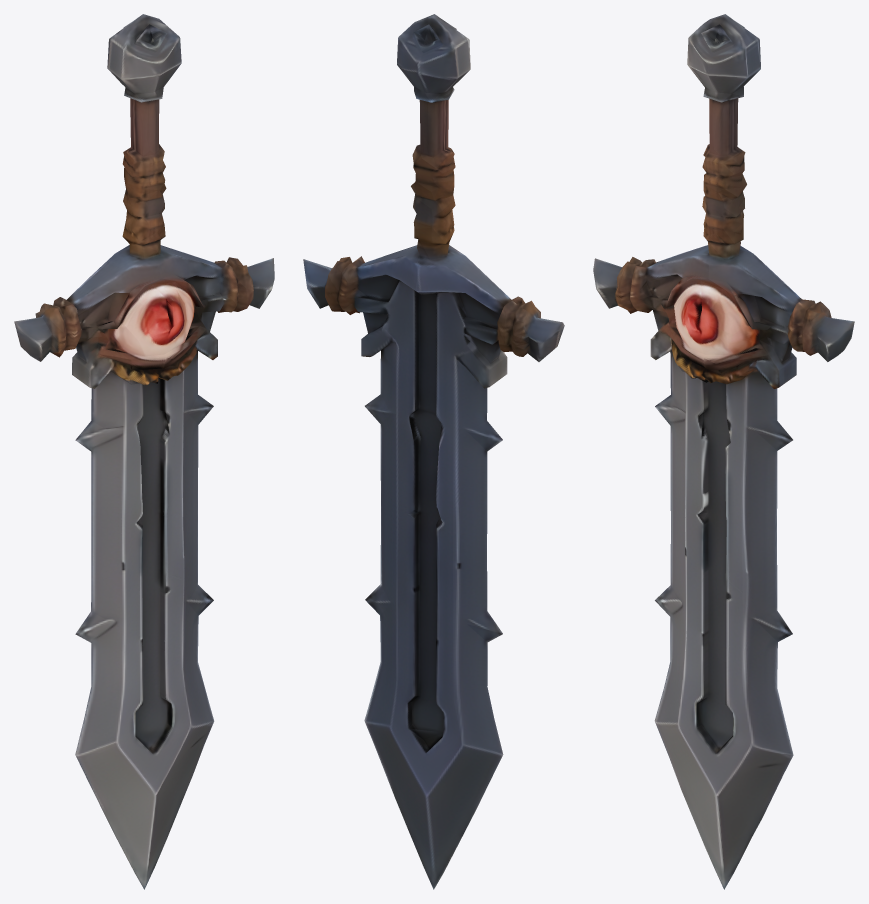
Rendered from base_basic_shaded.fbx.
3 views of the same model, side by side, from view 1: azimuth 30°, elevation 25°; view 2: azimuth 150°, elevation 25°; view 3: azimuth 330°, elevation 25° (orthographic).
Visible parts, largest first — view 1: model; view 2: model; view 3: model.
Part boxes in pixels (<box>): model: <box>14,14,274,889</box>; model: <box>303,14,564,889</box>; model: <box>593,14,854,889</box>.
Bounding box in the file's own units: 51.36 × 165 × 15.22.
